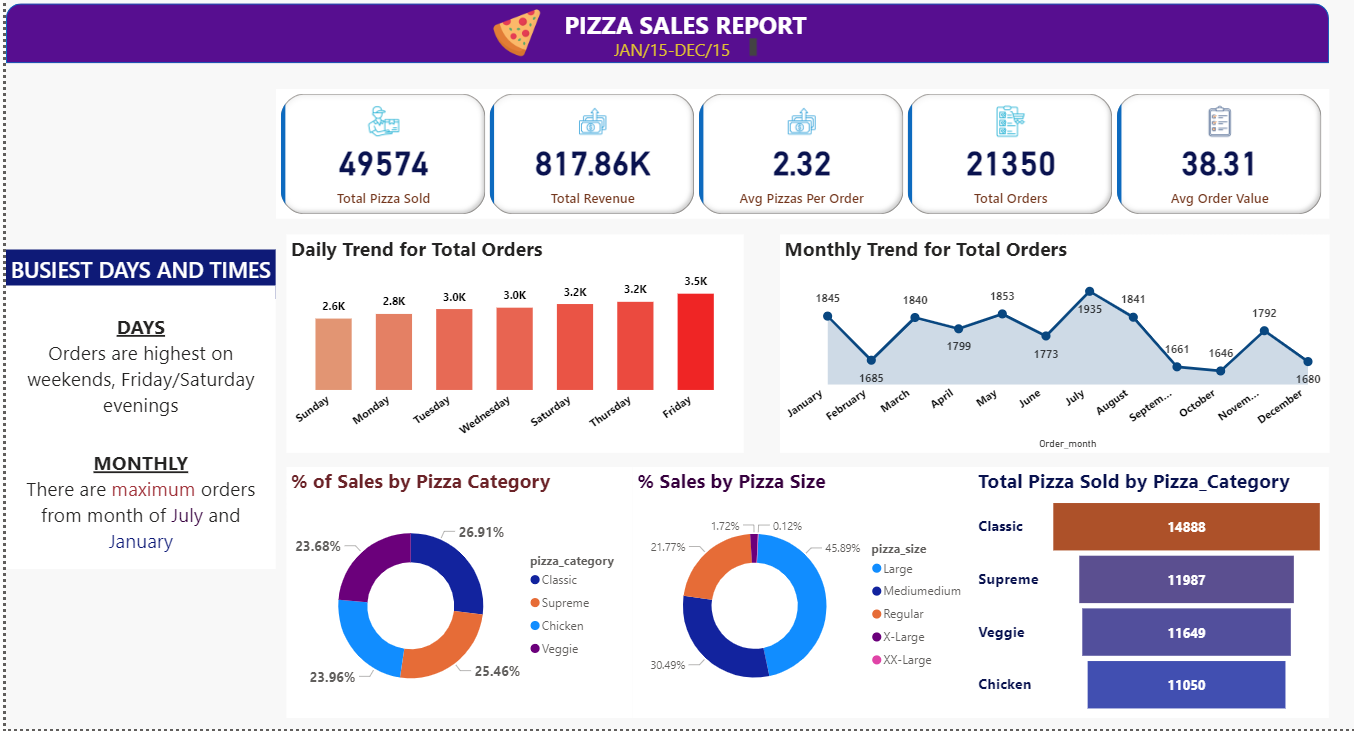

The dashboard page shown, as its layout file describes it:
{"tool":"powerbi","page":{"name":"Page 1","canvas":[1500,820],"ordinal":0},"visuals":[{"type":"cardVisual","fields":{"Data":["pizza_sales.Total Pizza Sold","pizza_sales.Total Revenue","pizza_sales.Avg Pizzas Per Order","pizza_sales.Total Orders","pizza_sales.Avg Order Value"]},"box":[298.1,113.2,1164,143.4],"z":0},{"type":"shape","box":[0,18,1462,66],"z":1000},{"type":"textbox","box":[596,18,308,52],"z":2000},{"type":"textbox","box":[666,52,168,32],"z":3000},{"type":"image","box":[532,18,64,64],"z":4000},{"type":"columnChart","title":"Daily Trend for Total Orders ","fields":{"Category":["pizza_sales.Day Name"],"Y":["pizza_sales.Total Orders"]},"box":[309.4,273.5,505.6,241.5],"z":5000},{"type":"areaChart","title":"Monthly Trend for Total Orders","fields":{"Category":["pizza_sales.Order_month"],"Y":["pizza_sales.Total Orders"]},"box":[854.6,273.5,607.5,241.5],"z":6000},{"type":"shape","box":[1069.7,530.1,392.4,277.3],"z":7000},{"type":"donutChart","title":"% of Sales by Pizza Category","fields":{"Category":["pizza_sales.pizza_category"],"Y":["pizza_sales.Total Revenue"]},"box":[309.4,530.1,383,277.3],"z":8000},{"type":"donutChart","title":"% Sales by Pizza Size","fields":{"Category":["pizza_sales.pizza_size"],"Y":["pizza_sales.Total Revenue"]},"box":[692.4,530.1,377.3,277.3],"z":9000},{"type":"funnel","title":"Total Pizza Sold by Pizza_Category","fields":{"Category":["pizza_sales.pizza_category"],"Y":["pizza_sales.Total Pizza Sold"]},"box":[1069.7,530.1,392.4,277.3],"z":10000},{"type":"textbox","box":[0,290.5,298.1,54.7],"z":11000},{"type":"textbox","box":[0,330.1,298.1,313.2],"z":12000}]}

Visuals, with their boxes in screenshot pixels (x1, y1, x2, y2), scaled from the page's 1500x820 canvas onto the 1354x731 screenshot:
cardVisual - pizza_sales.Total Pizza Sold x pizza_sales.Total Revenue: (left=269, top=101, right=1320, bottom=229)
shape: (left=0, top=16, right=1320, bottom=75)
textbox: (left=538, top=16, right=816, bottom=62)
textbox: (left=601, top=46, right=753, bottom=75)
image: (left=480, top=16, right=538, bottom=73)
"Daily Trend for Total Orders " columnChart: (left=279, top=244, right=736, bottom=459)
"Monthly Trend for Total Orders" areaChart: (left=771, top=244, right=1320, bottom=459)
shape: (left=966, top=473, right=1320, bottom=720)
"% of Sales by Pizza Category" donutChart: (left=279, top=473, right=625, bottom=720)
"% Sales by Pizza Size" donutChart: (left=625, top=473, right=966, bottom=720)
"Total Pizza Sold by Pizza_Category" funnel: (left=966, top=473, right=1320, bottom=720)
textbox: (left=0, top=259, right=269, bottom=308)
textbox: (left=0, top=294, right=269, bottom=573)
